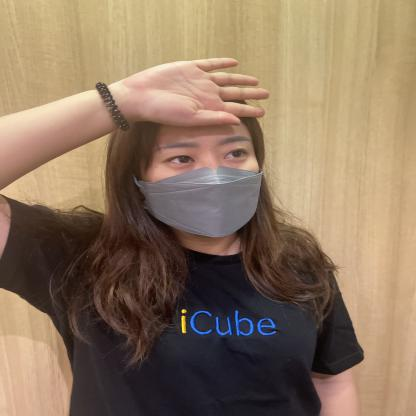Sick: (51, 54, 321, 134)
